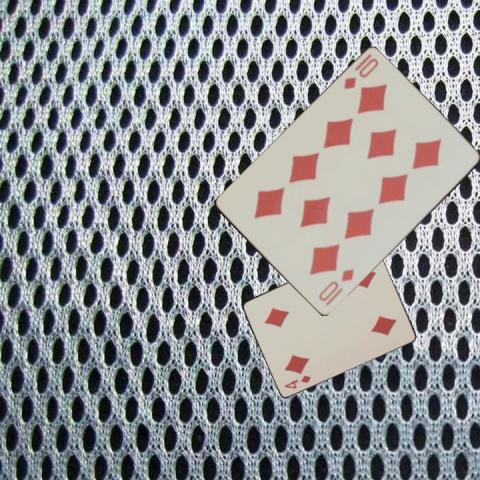10d: (315, 266, 356, 308), (340, 56, 380, 92)
4d: (280, 372, 312, 390)
